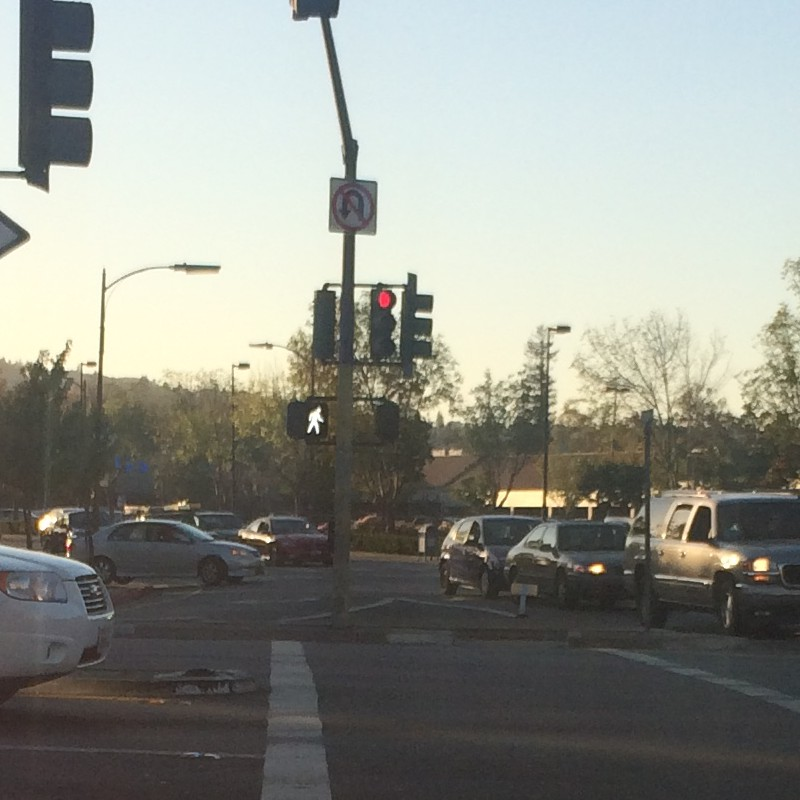go: (281, 398, 336, 442)
